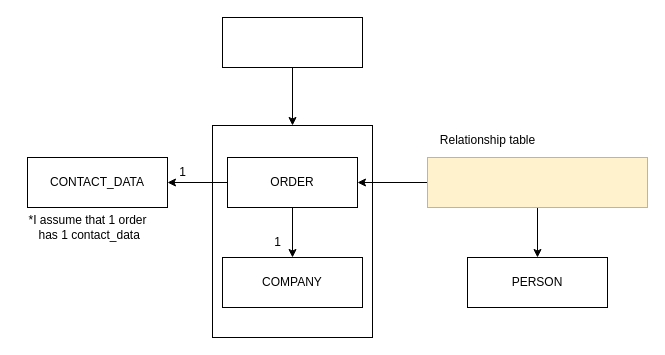
This 665x355 diagram has some shape labels left out. Each missing label, with the centre of its shape:
"INVOICE" belongs at (292,42).
"SALES_OWNERS_DETAILS" belongs at (537,182).
